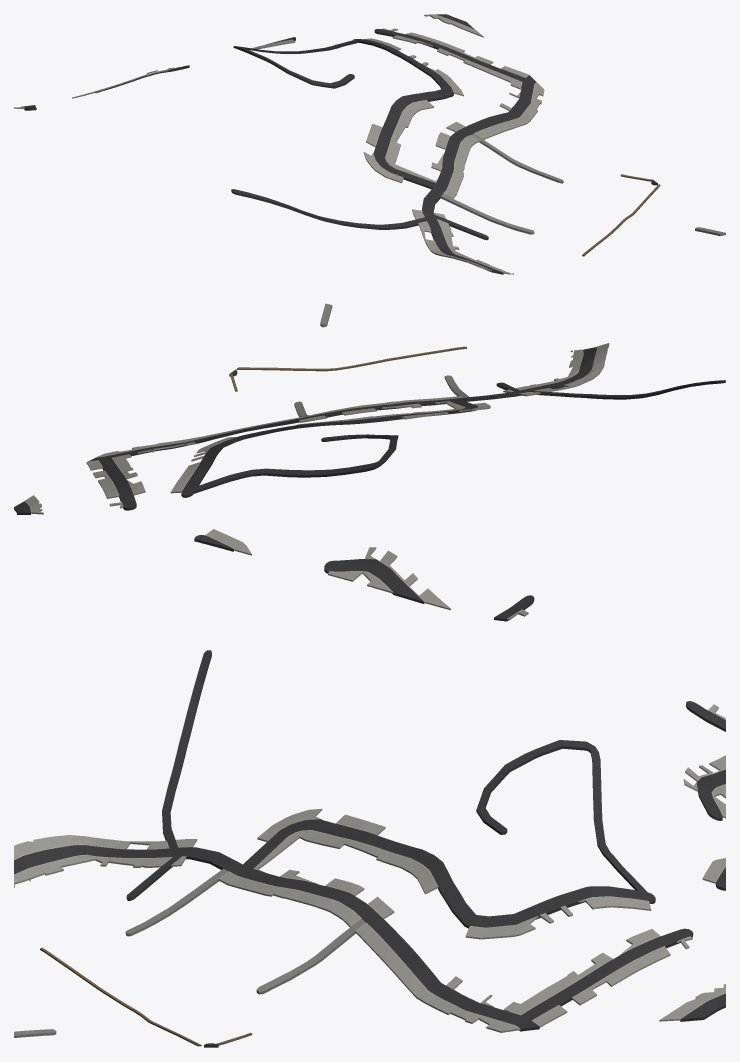
3 views of the same model, one above another, from view 1: azimuth 30°, elevation 25°; view 2: azimuth 150°, elevation 25°; view 3: azimuth 270°, elevation 25° (orthographic). The views are drawn at different scales.
Bounding box in the file's own units: 277 × 61.7 × 291.
